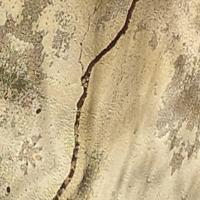crack: (51, 0, 146, 199)
